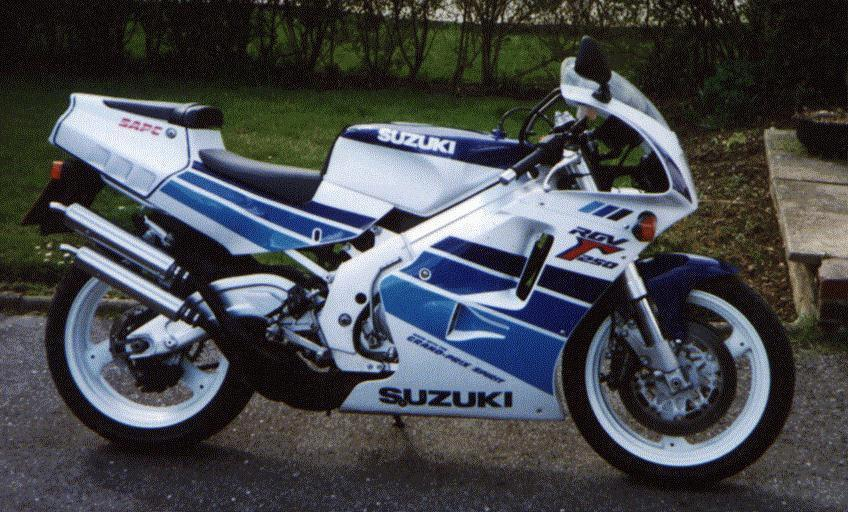motorcycle: (19, 24, 801, 495)
